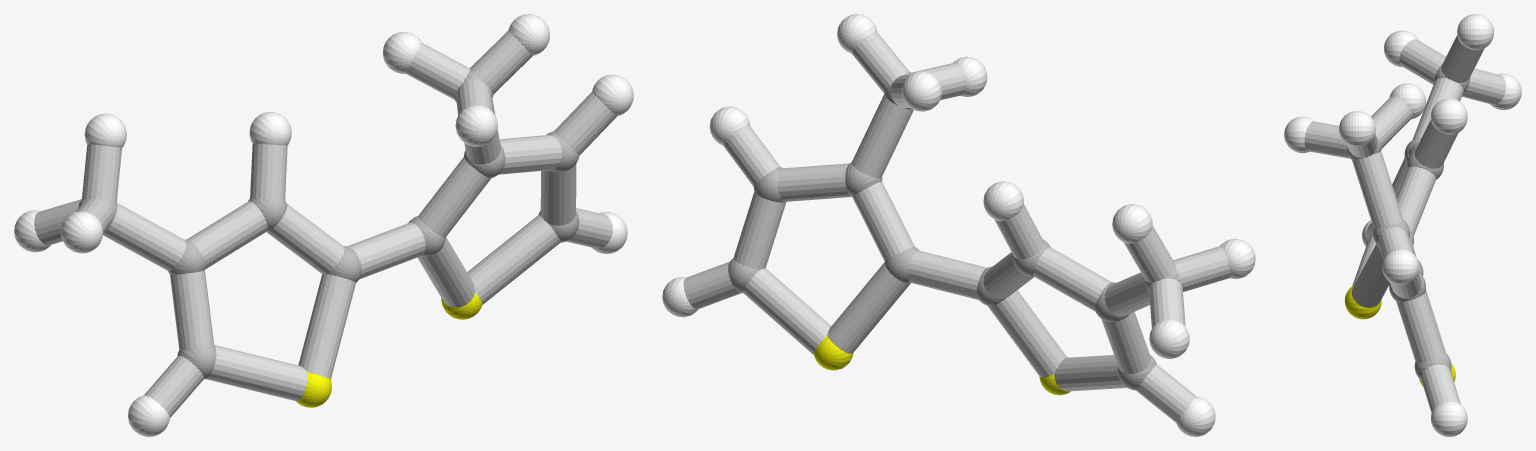
Rendered from Methylthiophene_Phi_10_Theta_220_Methylthiophene.glb.
3 renders of one model, left to right at view 1: azimuth 30°, elevation 25°; view 2: azimuth 150°, elevation 25°; view 3: azimuth 270°, elevation 25°, orthographic. The views are drawn at different scales.
Parts seen in each view (by area): view 1: grp7965, grp3621, grp1, grp7241; view 2: grp7965, grp3621, grp1, grp7241; view 3: grp7965, grp3621, grp1, grp7241.
Boxes of the visible parts, box(x1,y1,x2,y2) form: grp7965: box(34, 31, 616, 417); grp3621: box(14, 14, 633, 436); grp1: box(78, 70, 579, 379); grp7241: box(296, 292, 482, 407); grp7965: box(683, 32, 1230, 422); grp3621: box(662, 14, 1255, 436); grp1: box(728, 72, 1180, 390); grp7241: box(814, 336, 1070, 395); grp7965: box(1304, 35, 1506, 412); grp3621: box(1284, 14, 1521, 436); grp1: box(1347, 64, 1470, 379); grp7241: box(1344, 285, 1455, 386).
Size of the model in its own units: 9.61 by 5.31 by 3.85.
